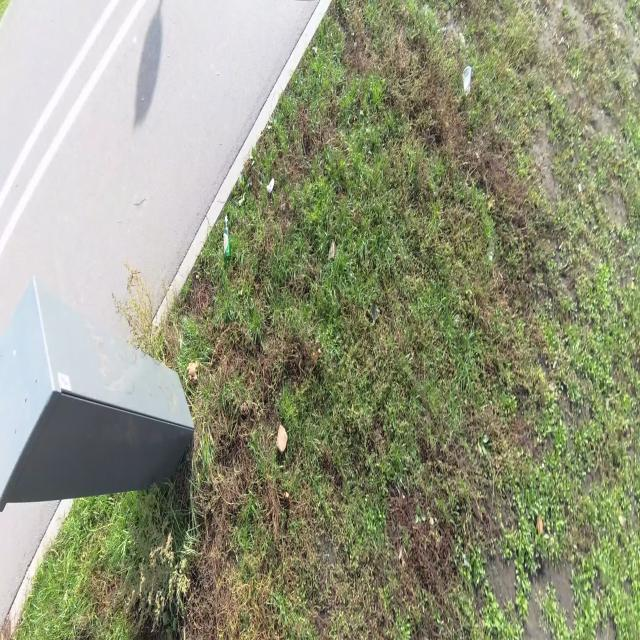rubbish: (223, 211, 231, 260), (276, 422, 288, 452), (462, 63, 471, 98)
